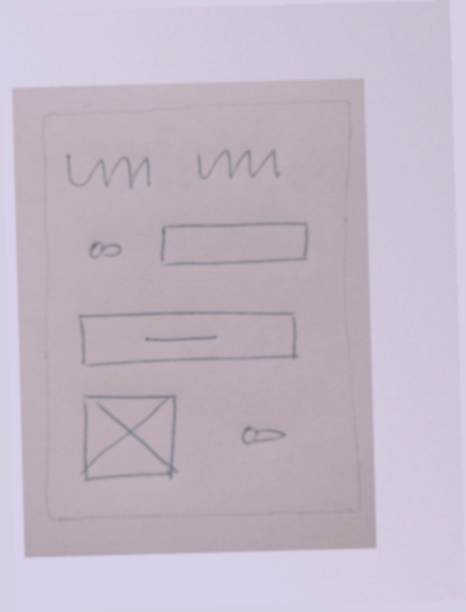button: (69, 300, 308, 378)
image: (73, 384, 185, 489)
switch: (76, 227, 129, 270), (231, 418, 297, 450)
text: (61, 144, 159, 200), (186, 139, 289, 192)
text_input: (148, 213, 315, 276)
